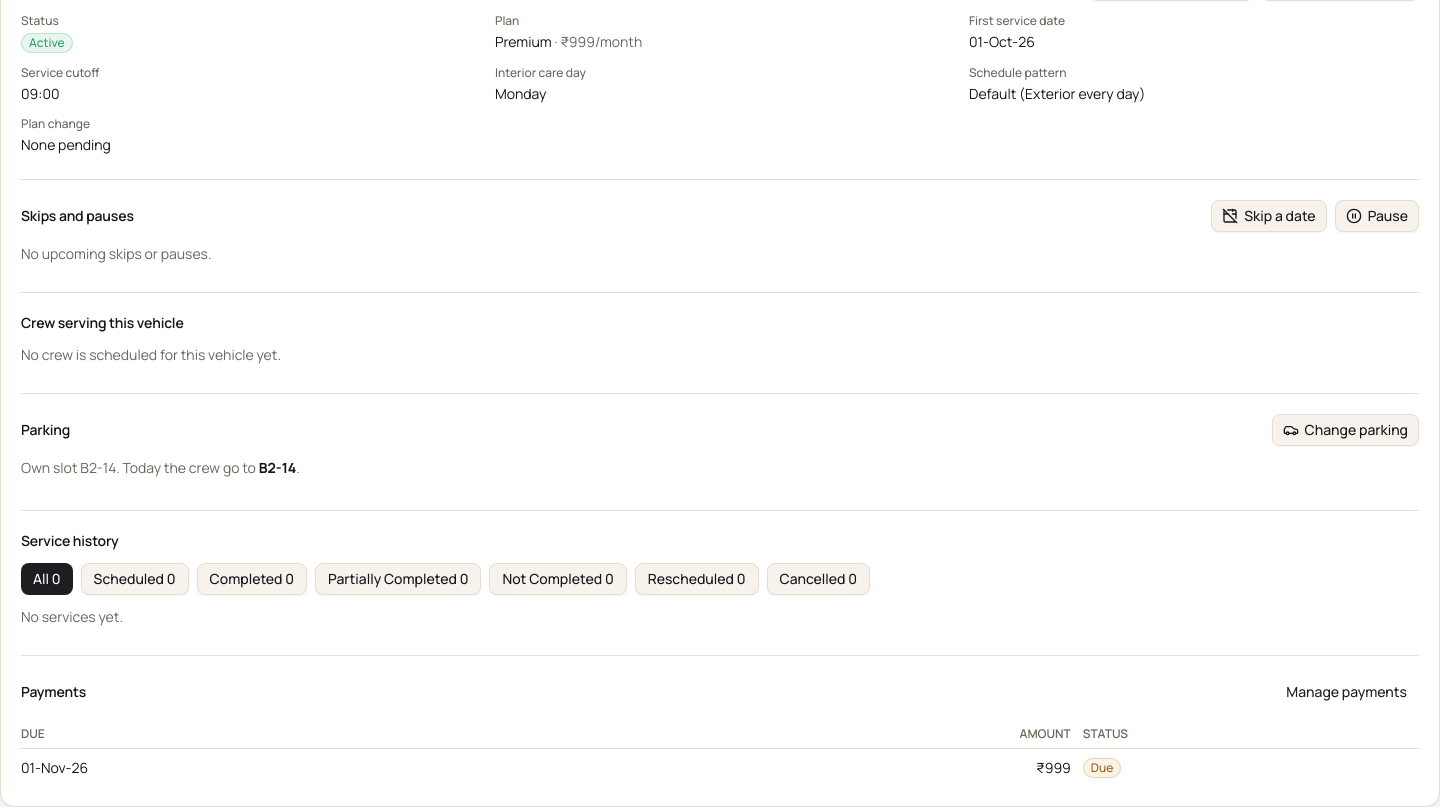
Scenario: says so when a state has no services
(page scrolled)
Expected: the text "No services yet." is shown, [21,607,123,626]
What coordinates should you click on to do the following:
click the button "Cancelled 0"
I would click on:
 (818, 579)
Its box is [766,563,870,595].
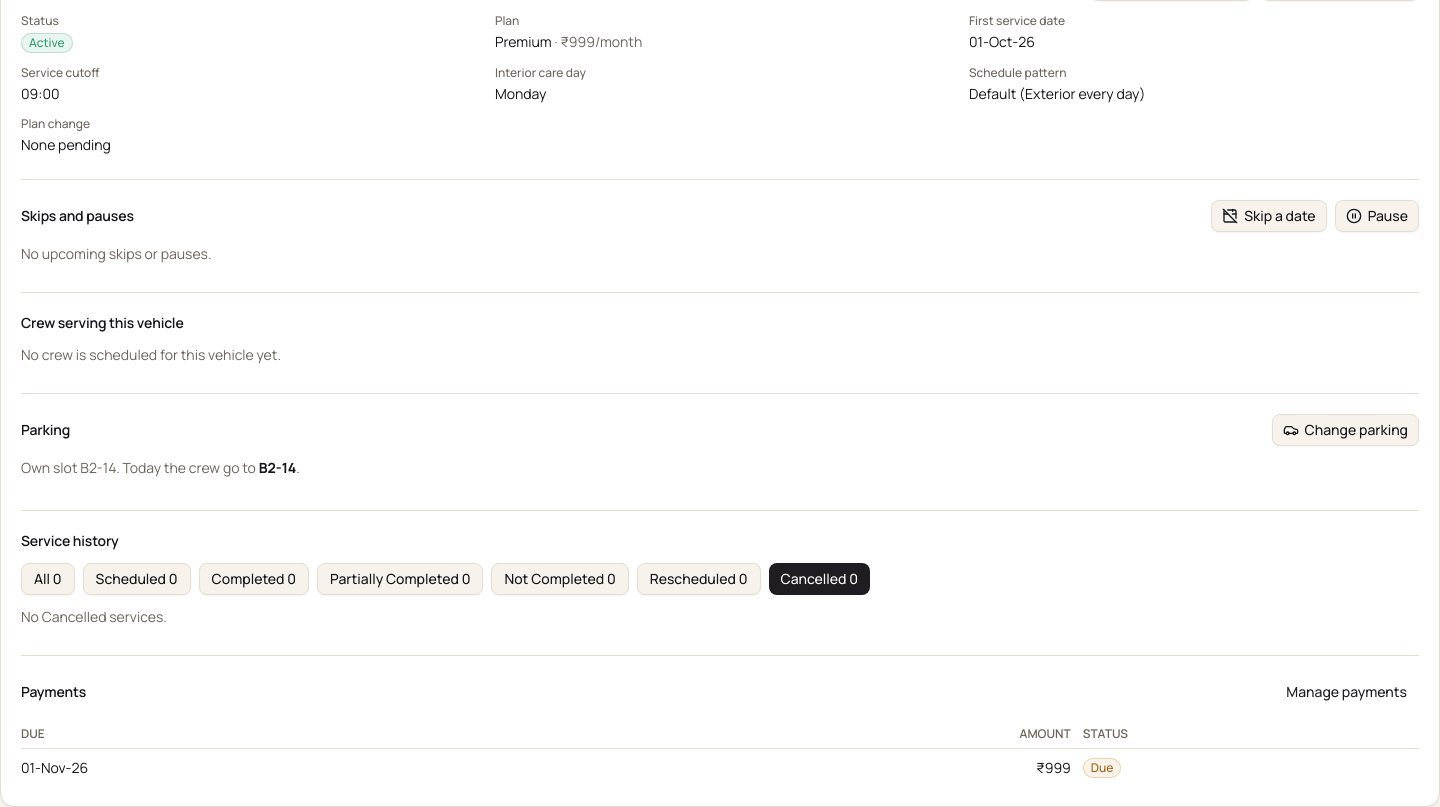
Now the text "No Cancelled services." is shown, box [21,607,167,626]
